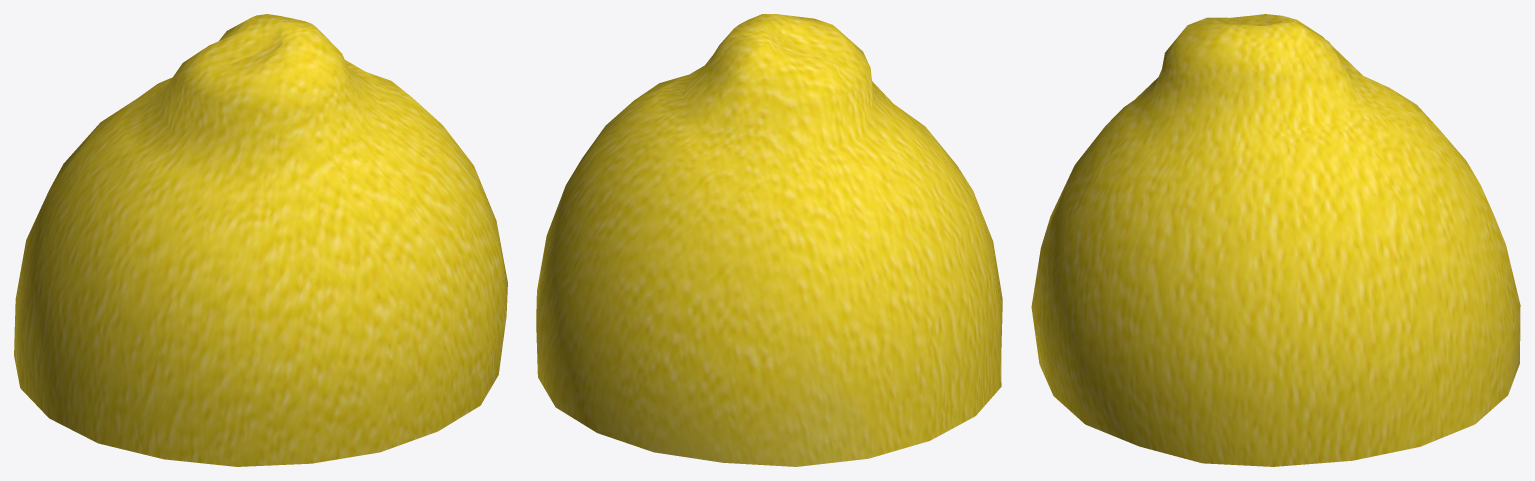
Rendered from LemonHalf.fbx.
The picture shows the model from 3 angles, left to right: view 1: azimuth 30°, elevation 25°; view 2: azimuth 150°, elevation 25°; view 3: azimuth 270°, elevation 25°; orthographic projection. The views are drawn at different scales.
Parts seen in each view (by area): view 1: LemonHalf; view 2: LemonHalf; view 3: LemonHalf.
Boxes of the visible parts, x1,y1,x2,y2 form: LemonHalf: (14, 14, 507, 466); LemonHalf: (536, 14, 1002, 466); LemonHalf: (1031, 14, 1520, 466).
Bounding box in the file's own units: 0.0721 × 0.0711 × 0.0554.
